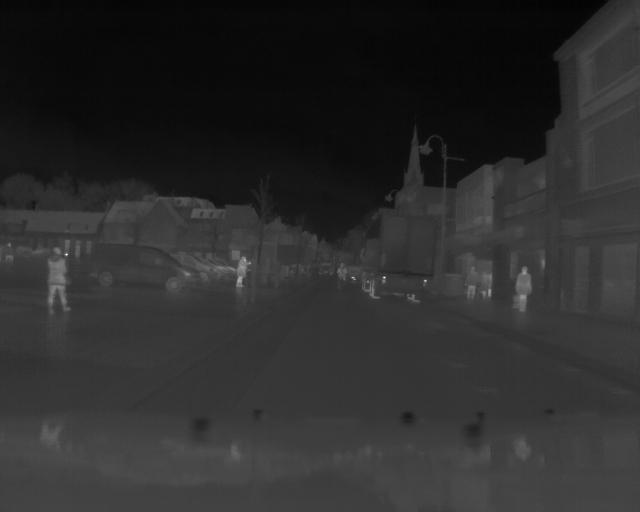car: (88, 243, 202, 296)
person: (45, 244, 72, 314), (514, 265, 531, 315), (236, 254, 250, 292), (466, 266, 478, 304), (337, 260, 349, 293)
